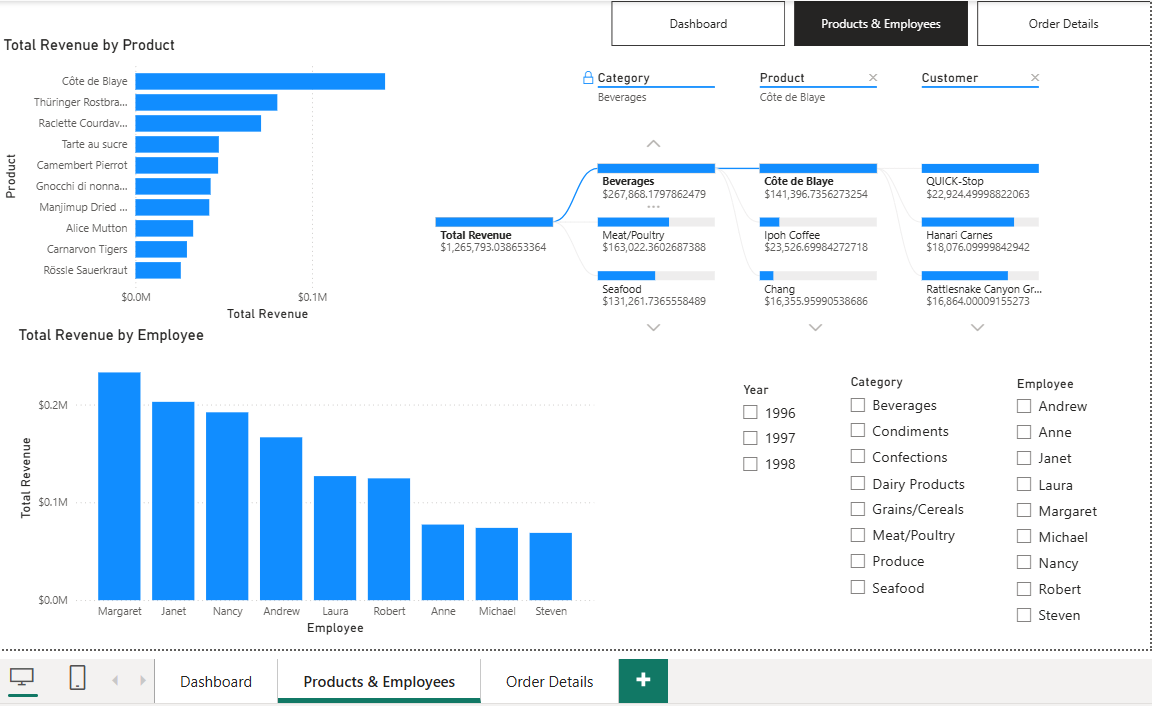

What the dashboard file says about the page in this screenshot:
{"tool":"powerbi","page":{"name":"Products & Employees","canvas":[1280,720],"ordinal":1},"visuals":[{"type":"clusteredBarChart","title":"Total Revenue by Product","fields":{"Category":["public v_product_enriched.product_name"],"Y":["_Measures.Total Revenue"]},"box":[0,38.9,468.1,322.2],"z":0},{"type":"decompositionTreeVisual","fields":{"Analyze":["_Measures.Total Revenue"],"ExplainBy":["public v_product_enriched.category_name","public v_product_enriched.product_name","public v_customer_geo.company_name"]},"box":[455.8,59.3,824.4,350],"z":1},{"type":"clusteredColumnChart","title":"Total Revenue by Employee","fields":{"Category":["public employees.first_name"],"Y":["_Measures.Total Revenue"]},"box":[16.7,361.1,650,348.6],"z":2},{"type":"slicer","fields":{"Values":["Date.Year"]},"box":[814,418.6,119.8,291.9],"z":3},{"type":"slicer","fields":{"Values":["public v_product_enriched.category_name"]},"box":[933.7,409.3,184.9,310.5],"z":4},{"type":"slicer","fields":{"Values":["public employees.first_name"]},"box":[1118.6,410.5,161.6,309.3],"z":5},{"type":"pageNavigator","box":[680.2,0,600,50],"z":6}]}

Visuals, with their boxes on the page's 1280x720 design canvas (x1, y1, x2, y2). These are canvas units, not pixel positions in the 1152x706 screenshot, which may show the page scaled, cropped or inside an application window:
"Total Revenue by Product" clusteredBarChart: 0:39:468:361
decompositionTreeVisual - _Measures.Total Revenue x public v_product_enriched.category_name: 456:59:1280:409
"Total Revenue by Employee" clusteredColumnChart: 17:361:667:710
slicer - Date.Year: 814:419:934:710
slicer - public v_product_enriched.category_name: 934:409:1119:720
slicer - public employees.first_name: 1119:410:1280:720
pageNavigator: 680:0:1280:50
